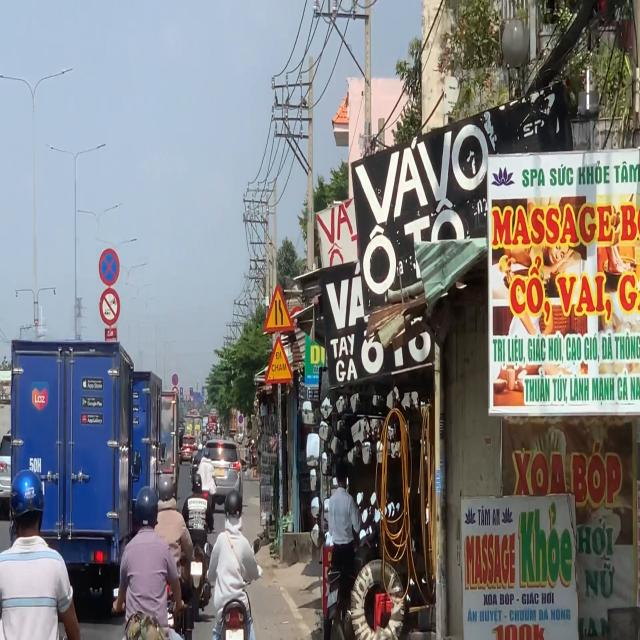Cam con lai: (99, 286, 120, 325)
Cam dung va do: (98, 247, 120, 288)
Nguy hiem: (262, 281, 296, 333), (264, 335, 295, 385)
